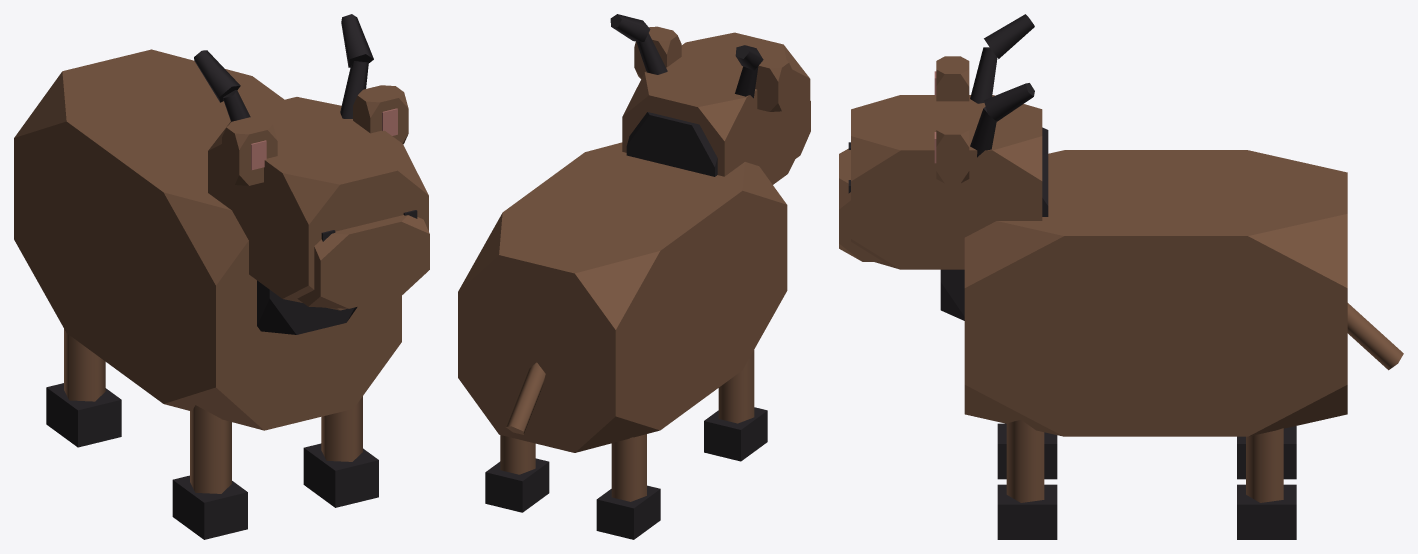
Rendered from original-lechwe.glb.
3 renders of one model, left to right at view 1: azimuth 30°, elevation 25°; view 2: azimuth 150°, elevation 25°; view 3: azimuth 270°, elevation 25°, orthographic. The views are drawn at different scales.
Visible parts, largest first — view 1: lechwe; view 2: lechwe; view 3: lechwe.
Part boxes in pixels (left/top/right/bottom): lechwe: left=14, top=14, right=429, bottom=539; lechwe: left=458, top=14, right=810, bottom=539; lechwe: left=839, top=14, right=1403, bottom=539.
Bounding box in the file's own units: 0.6801 × 1.66 × 1.89.
